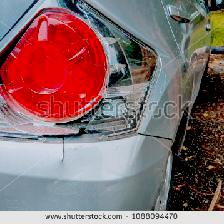tail_lamp: (32, 1, 174, 184)
